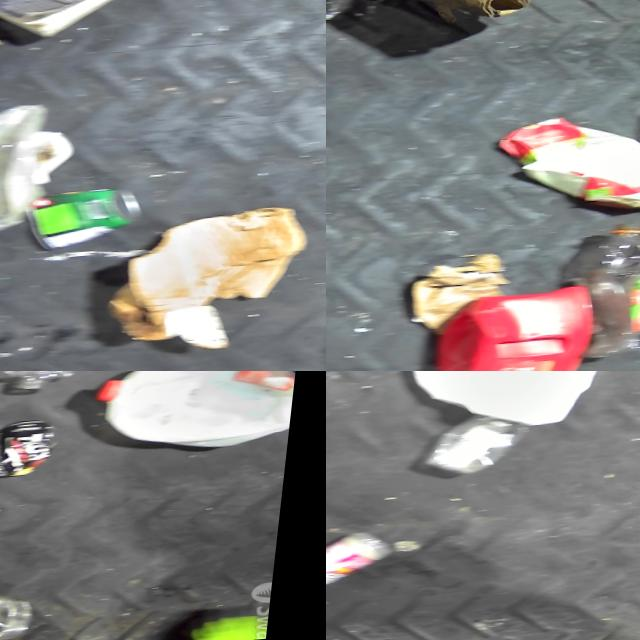can: (34, 182, 149, 252), (0, 418, 65, 480)
milk_jug: (97, 371, 306, 457), (402, 371, 623, 440)
non_white_jug: (489, 105, 640, 222), (435, 283, 606, 371)
plastic_bottle: (575, 219, 640, 360), (326, 529, 408, 605)
